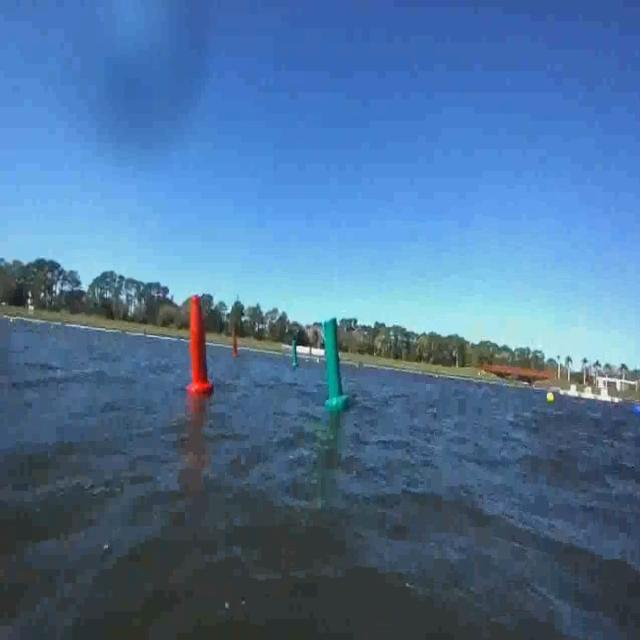blue-buoy: (634, 404, 640, 418)
green-column-buoy: (320, 315, 348, 410), (291, 339, 299, 368)
red-column-buoy: (187, 294, 214, 398), (233, 331, 241, 358)
yellow-buoy: (548, 387, 557, 403)
